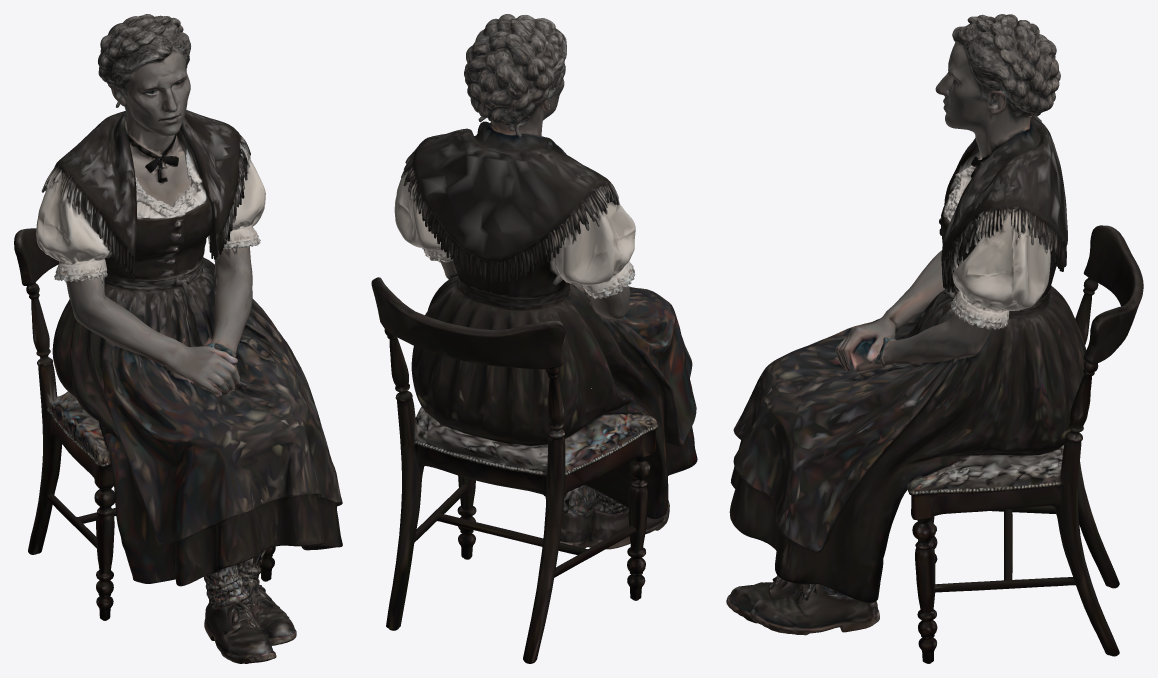
The picture shows the model from 3 angles, left to right: view 1: azimuth 30°, elevation 25°; view 2: azimuth 150°, elevation 25°; view 3: azimuth 270°, elevation 25°; orthographic projection. The views are drawn at different scales.
Bounding box in the file's own units: 0.3942 × 0.9784 × 0.6139.
